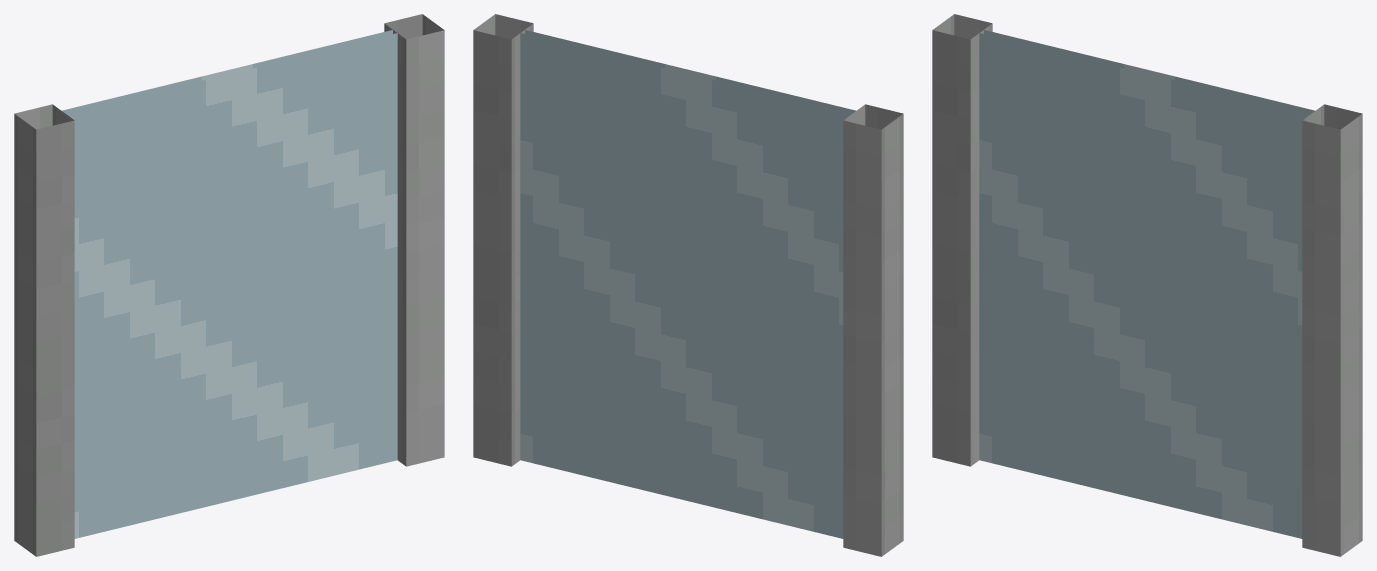
File: auto_door_tele_slider_stainless_c0_middle_left_open.obj
The picture shows the model from 3 angles, left to right: view 1: azimuth 30°, elevation 25°; view 2: azimuth 150°, elevation 25°; view 3: azimuth 330°, elevation 25°; orthographic projection.
Visible parts, largest first — view 1: auto_door_tele_slider_stainless_c0_middle_left_open; view 2: auto_door_tele_slider_stainless_c0_middle_left_open; view 3: auto_door_tele_slider_stainless_c0_middle_left_open.
Part boxes in pixels (x1,y1,x2,y2): auto_door_tele_slider_stainless_c0_middle_left_open: (14,14,444,556); auto_door_tele_slider_stainless_c0_middle_left_open: (473,14,903,556); auto_door_tele_slider_stainless_c0_middle_left_open: (932,14,1362,556).
Bounding box in the file's own units: 1 × 1 × 0.0937.
